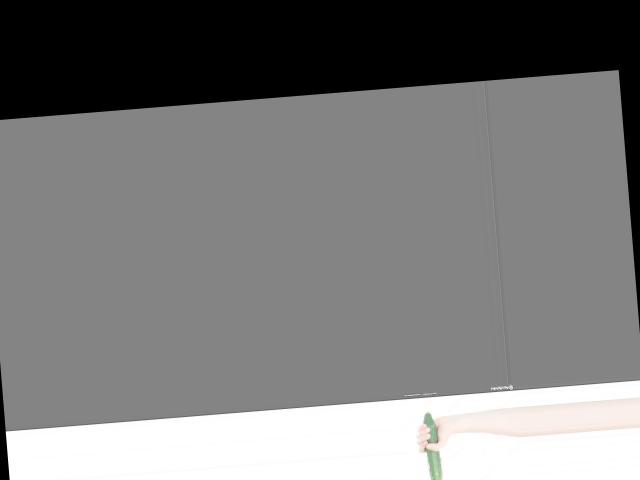cucumber: (421, 410, 442, 480)
